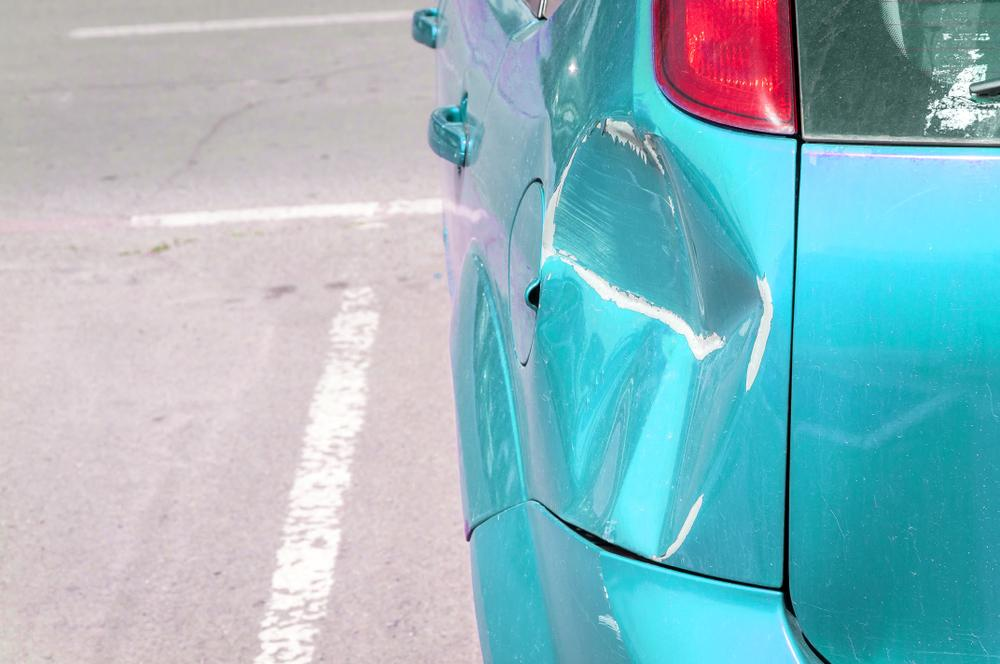dent: (542, 121, 766, 558)
